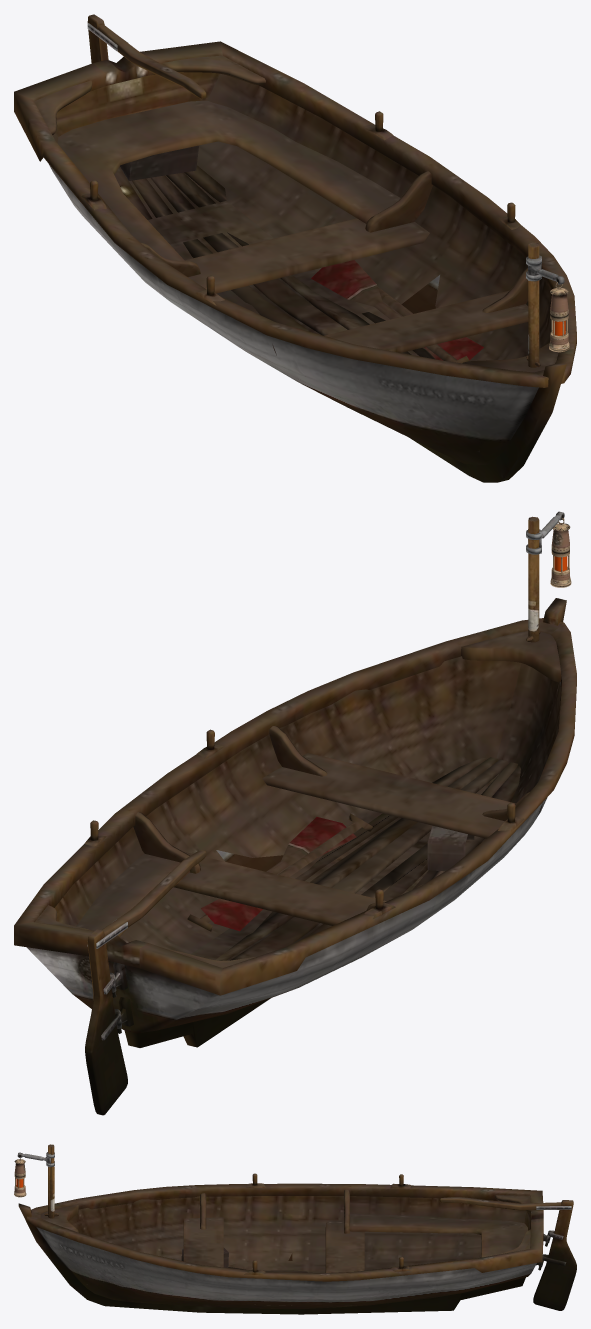
The model's file is boat.lo.glb.
3 views of the same model, one above another, from view 1: azimuth 30°, elevation 25°; view 2: azimuth 150°, elevation 25°; view 3: azimuth 270°, elevation 25° (orthographic). The views are drawn at different scales.
Parts seen in each view (by area): view 1: boatfoundation_low, trim_low, rearbench_low, benches_low, bottomboards_low, oar_low, braces_low, rearbraces_low, chest_low, tiller_low, pegs_low, lamppost_low (+3 smaller); view 2: boatfoundation_low, trim_low, benches_low, bottomboards_low, rudder_low, oar_low, rearbench_low, braces_low, bracefront_low, tiller_low, chest_low, pegs_low (+3 smaller); view 3: boatfoundation_low, trim_low, benches_low, rearbench_low, rudder_low, tiller_low, pegs_low, bracefront_low, braces_low, rearbraces_low, lamppost_low, lamp_low (+2 smaller).
Part boxes in pixels (<box>): boatfoundation_low: <box>48,72,566,482</box>; trim_low: <box>14,41,576,387</box>; rearbench_low: <box>57,100,400,260</box>; benches_low: <box>185,218,528,352</box>; bottomboards_low: <box>114,165,479,452</box>; oar_low: <box>311,260,483,363</box>; braces_low: <box>141,171,528,355</box>; rearbraces_low: <box>34,55,265,134</box>; chest_low: <box>120,145,198,180</box>; tiller_low: <box>98,24,206,98</box>; pegs_low: <box>81,111,520,305</box>; lamppost_low: <box>528,242,539,367</box>; boatfoundation_low: <box>27,598,566,1047</box>; trim_low: <box>14,618,576,995</box>; benches_low: <box>173,752,515,925</box>; bottomboards_low: <box>215,757,520,960</box>; rudder_low: <box>85,929,127,1115</box>; oar_low: <box>187,813,373,931</box>; rearbench_low: <box>76,853,189,936</box>; braces_low: <box>133,726,542,910</box>; bracefront_low: <box>461,631,561,682</box>; tiller_low: <box>102,850,206,936</box>; chest_low: <box>427,825,474,871</box>; pegs_low: <box>84,729,524,919</box>; boatfoundation_low: <box>18,1196,536,1314</box>; trim_low: <box>27,1183,543,1281</box>; benches_low: <box>183,1217,364,1272</box>; rearbench_low: <box>350,1214,527,1257</box>; rudder_low: <box>533,1200,576,1310</box>; tiller_low: <box>439,1197,561,1210</box>; pegs_low: <box>244,1173,412,1275</box>; bracefront_low: <box>41,1204,78,1232</box>; braces_low: <box>200,1189,349,1233</box>; rearbraces_low: <box>495,1195,530,1254</box>; lamppost_low: <box>48,1144,54,1218</box>; lamp_low: <box>14,1157,26,1197</box>.
Bounding box in the file's own units: 1.4 × 1.18 × 3.6.
Materials: 2 (1 with a texture image).
